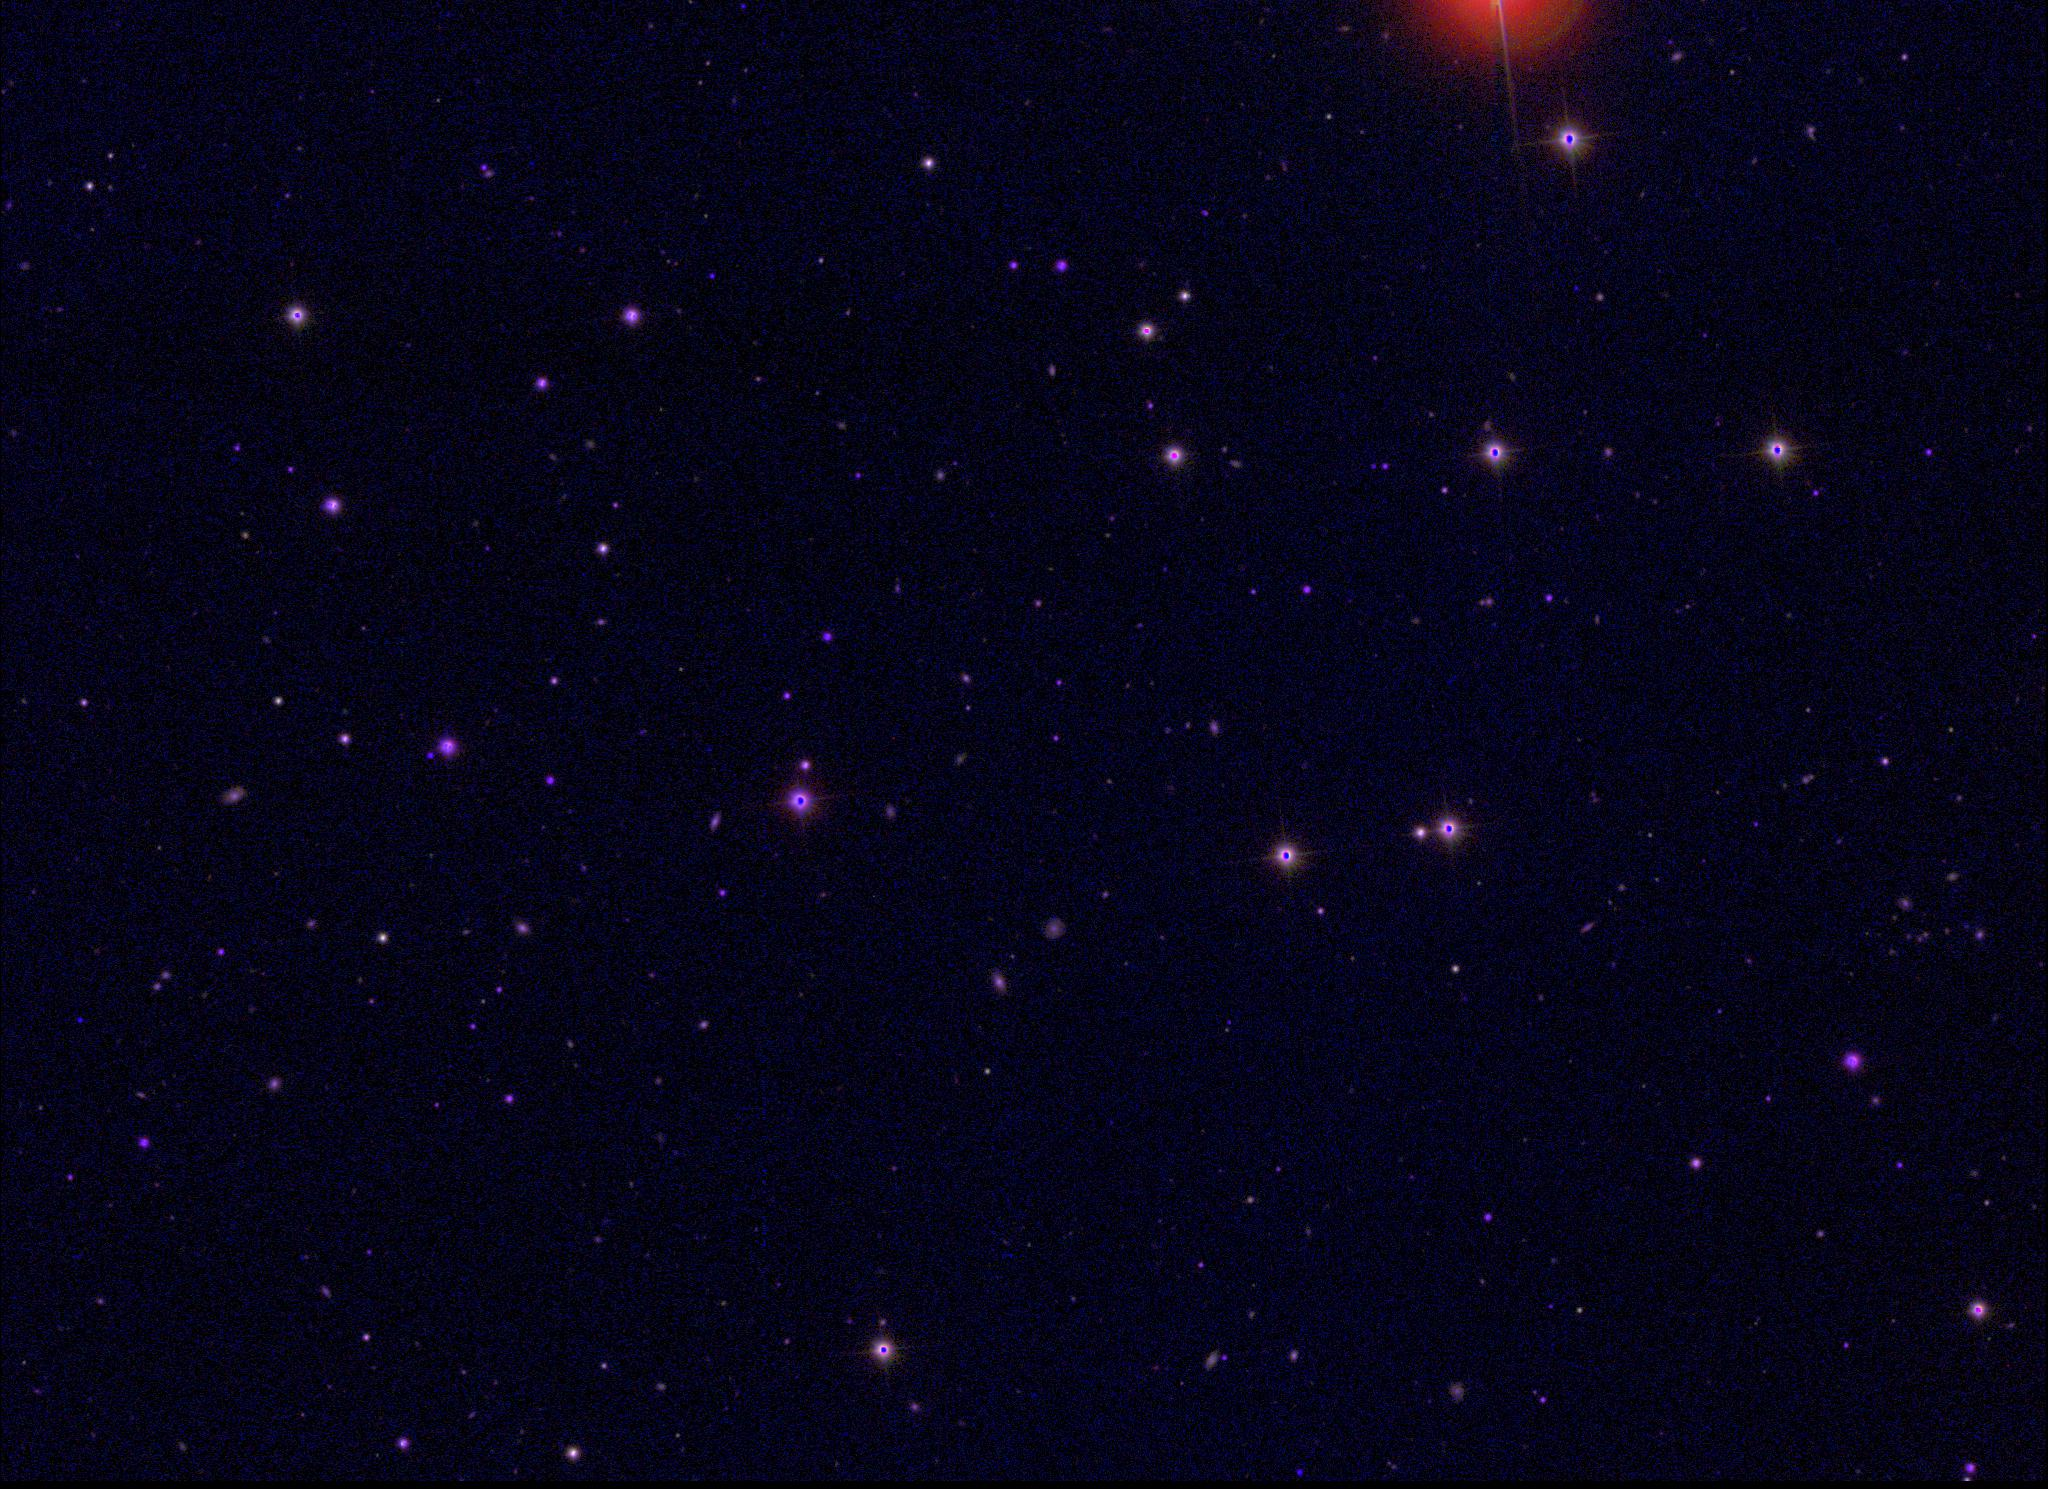L: (73, 1013, 87, 1028)
